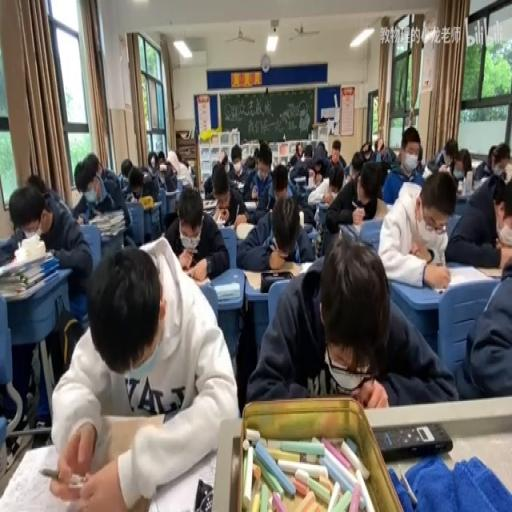calculator: (147, 448, 218, 512), (441, 264, 490, 288), (367, 195, 389, 219), (213, 282, 241, 300), (338, 222, 360, 244), (165, 186, 180, 215), (235, 219, 255, 240), (298, 259, 318, 276), (213, 205, 227, 223), (192, 273, 210, 285), (472, 176, 486, 190), (302, 220, 316, 234), (201, 196, 216, 209), (299, 182, 315, 192), (315, 199, 329, 209), (150, 199, 162, 209), (230, 181, 244, 189), (243, 201, 256, 209), (293, 176, 306, 184), (126, 193, 134, 202)
paper: (50, 235, 238, 506), (247, 232, 450, 410), (2, 178, 92, 296), (453, 244, 512, 401), (380, 165, 455, 287), (235, 185, 315, 269), (444, 168, 511, 267), (166, 182, 230, 282), (324, 156, 386, 238), (74, 154, 131, 240), (288, 144, 327, 194), (389, 125, 424, 179), (431, 137, 470, 179), (471, 142, 509, 184), (203, 152, 236, 199), (125, 162, 154, 205), (360, 135, 395, 168), (152, 148, 178, 189), (270, 162, 290, 202), (327, 139, 346, 168), (255, 145, 271, 178), (71, 193, 88, 222), (26, 172, 48, 194), (350, 150, 364, 180), (173, 165, 192, 186), (230, 145, 242, 166), (147, 151, 158, 172), (121, 158, 132, 178), (314, 141, 326, 159), (330, 179, 342, 196), (243, 155, 255, 171), (302, 144, 312, 160), (217, 148, 226, 165), (416, 145, 423, 166), (343, 170, 352, 186), (294, 142, 302, 156), (176, 148, 182, 163), (98, 162, 104, 176), (374, 136, 378, 150)
person: (374, 422, 451, 461), (260, 270, 294, 293)
